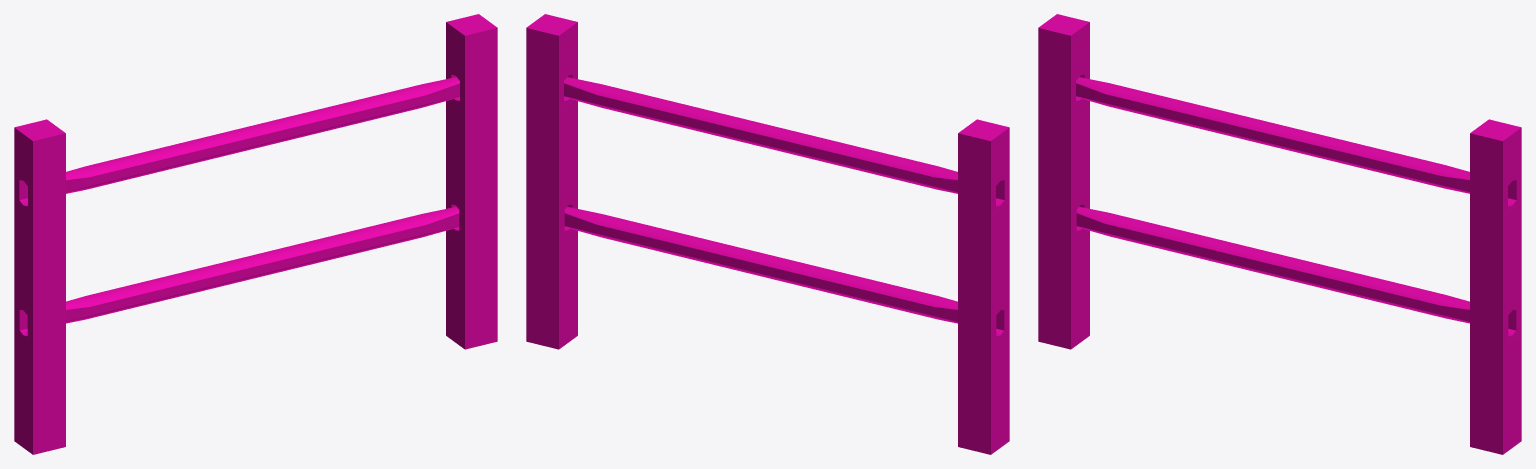
The model's file is Envi_Fence_Full_v01.fbx.
3 views of the same model, side by side, from view 1: azimuth 30°, elevation 25°; view 2: azimuth 150°, elevation 25°; view 3: azimuth 330°, elevation 25° (orthographic).
Parts seen in each view (by area): view 1: Truck_Ex_Set02_Fence_StandingPole_02, Truck_Ex_Set02_Fence_StandingPole_01, Truck_Ex_Set02_Fence_LongPole_02, Truck_Ex_Set02_Fence_LongPole_01; view 2: Truck_Ex_Set02_Fence_StandingPole_02, Truck_Ex_Set02_Fence_StandingPole_01, Truck_Ex_Set02_Fence_LongPole_02, Truck_Ex_Set02_Fence_LongPole_01; view 3: Truck_Ex_Set02_Fence_StandingPole_01, Truck_Ex_Set02_Fence_StandingPole_02, Truck_Ex_Set02_Fence_LongPole_01, Truck_Ex_Set02_Fence_LongPole_02.
Boxes of the visible parts, x1,y1,x2,y2 form: Truck_Ex_Set02_Fence_StandingPole_02: (14,119,65,454); Truck_Ex_Set02_Fence_StandingPole_01: (446,14,497,349); Truck_Ex_Set02_Fence_LongPole_02: (66,206,459,323); Truck_Ex_Set02_Fence_LongPole_01: (66,77,459,193); Truck_Ex_Set02_Fence_StandingPole_02: (958,119,1009,454); Truck_Ex_Set02_Fence_StandingPole_01: (526,14,577,349); Truck_Ex_Set02_Fence_LongPole_02: (564,206,957,323); Truck_Ex_Set02_Fence_LongPole_01: (564,77,957,193); Truck_Ex_Set02_Fence_StandingPole_01: (1470,119,1521,454); Truck_Ex_Set02_Fence_StandingPole_02: (1038,14,1089,349); Truck_Ex_Set02_Fence_LongPole_01: (1076,77,1469,193); Truck_Ex_Set02_Fence_LongPole_02: (1076,206,1469,323).
Bounding box in the file's own units: 60.36 × 38.95 × 4.26.
